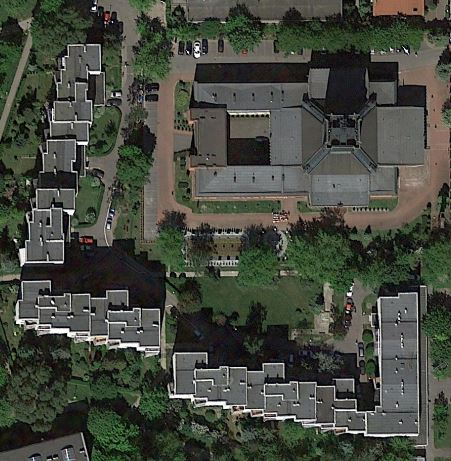block of flats: (168, 282, 433, 451), (16, 41, 109, 269), (14, 279, 164, 360)
church: (176, 62, 432, 214)
